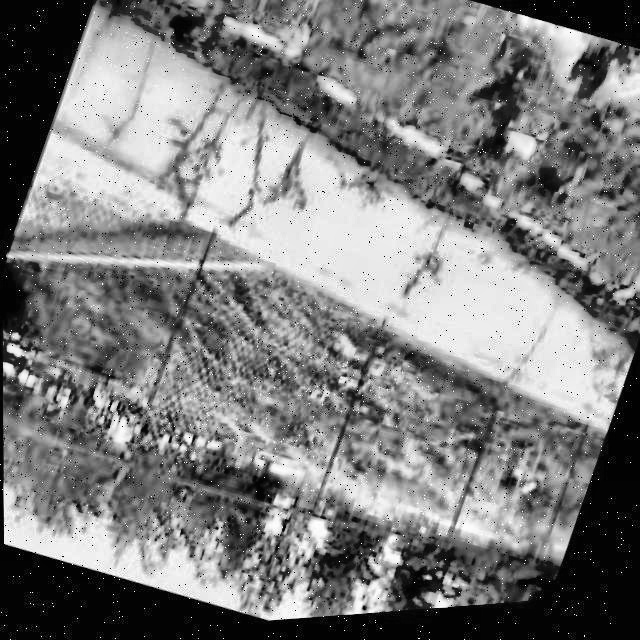Fire: (546, 34, 640, 135)
